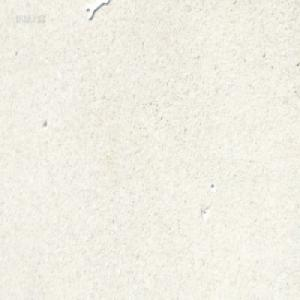Wrench: (86, 1, 109, 21)
